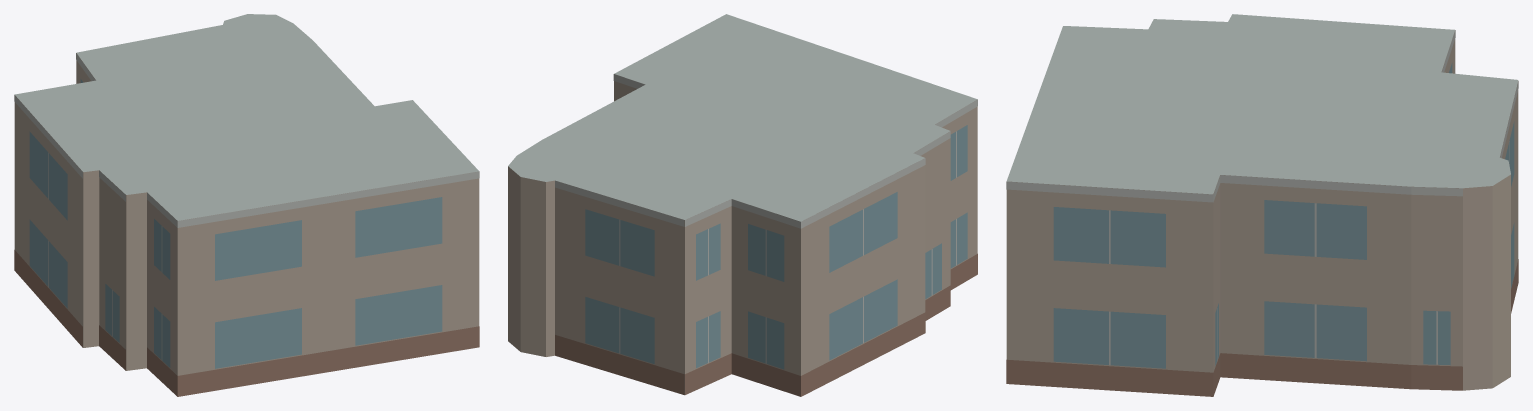
File: survey-upis-32601759.glb
The picture shows the model from 3 angles, left to right: view 1: azimuth 30°, elevation 25°; view 2: azimuth 150°, elevation 25°; view 3: azimuth 270°, elevation 25°; orthographic projection. The views are drawn at different scales.
Parts seen in each view (by area): view 1: survey-upis-32601759.tmp; view 2: survey-upis-32601759.tmp; view 3: survey-upis-32601759.tmp.
Part boxes in pixels (x1,y1,x2,y2): survey-upis-32601759.tmp: [14, 14, 479, 396]; survey-upis-32601759.tmp: [508, 14, 977, 396]; survey-upis-32601759.tmp: [1006, 14, 1518, 396].
Bounding box in the file's own units: 11.67 × 6.1 × 13.99.
